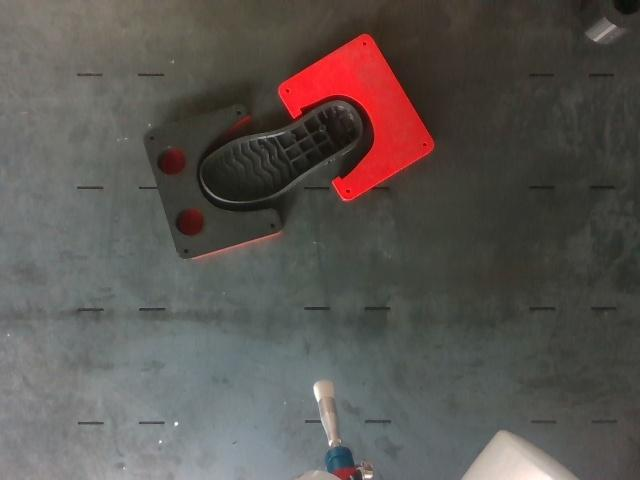shoes: (201, 101, 361, 202)
